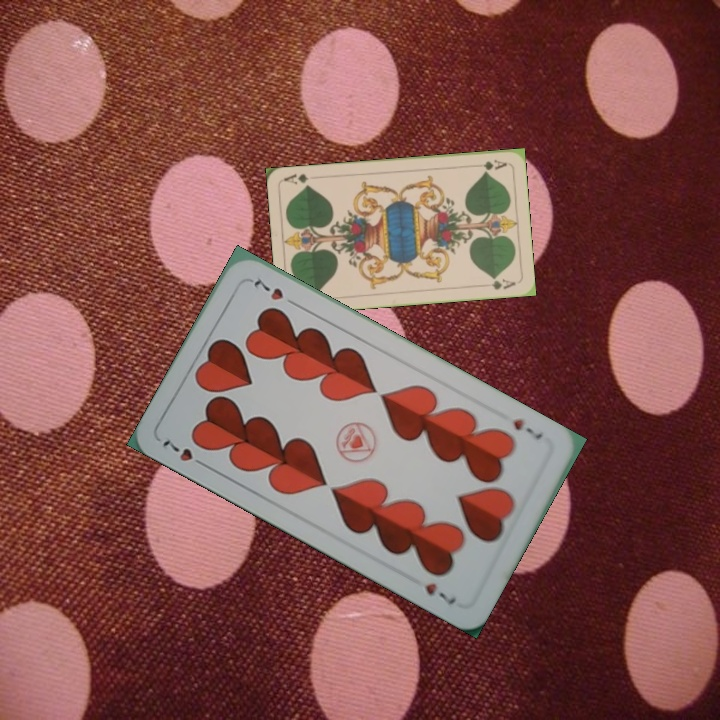GA: (469, 156, 509, 174)
H7: (158, 436, 211, 471), (509, 413, 545, 443)
